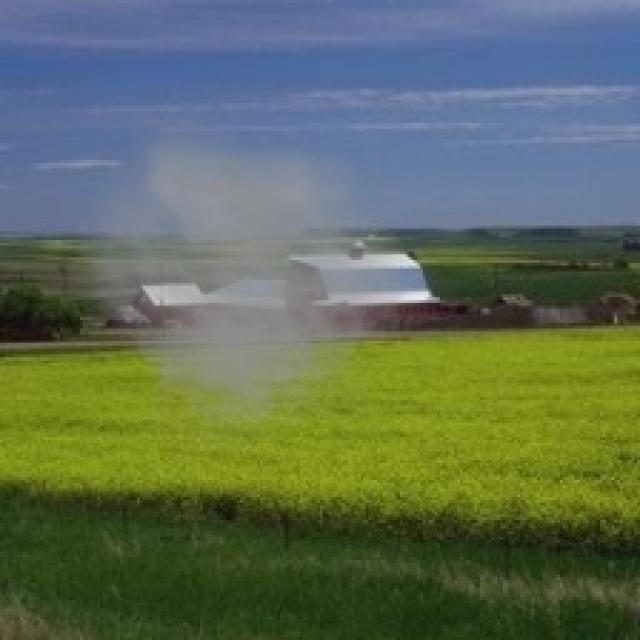smoke: (57, 120, 426, 466)
